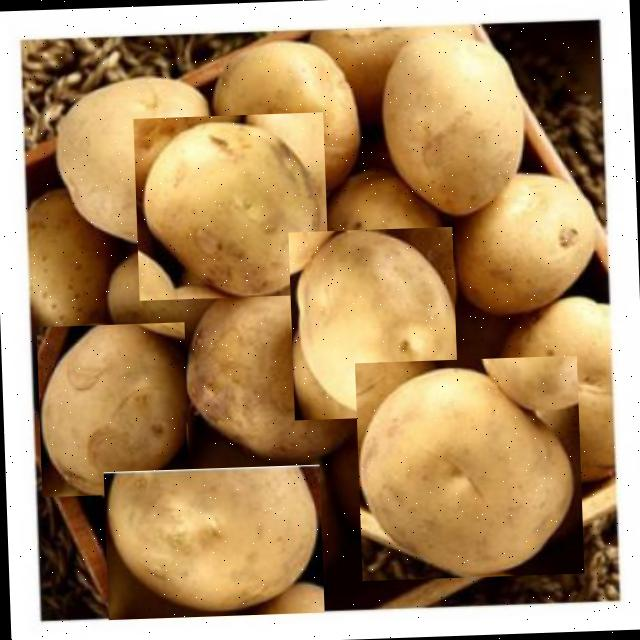Potato: (355, 355, 584, 581), (133, 112, 329, 300), (103, 464, 324, 620), (288, 226, 458, 420), (376, 28, 530, 220), (36, 322, 190, 497), (452, 166, 598, 318)
